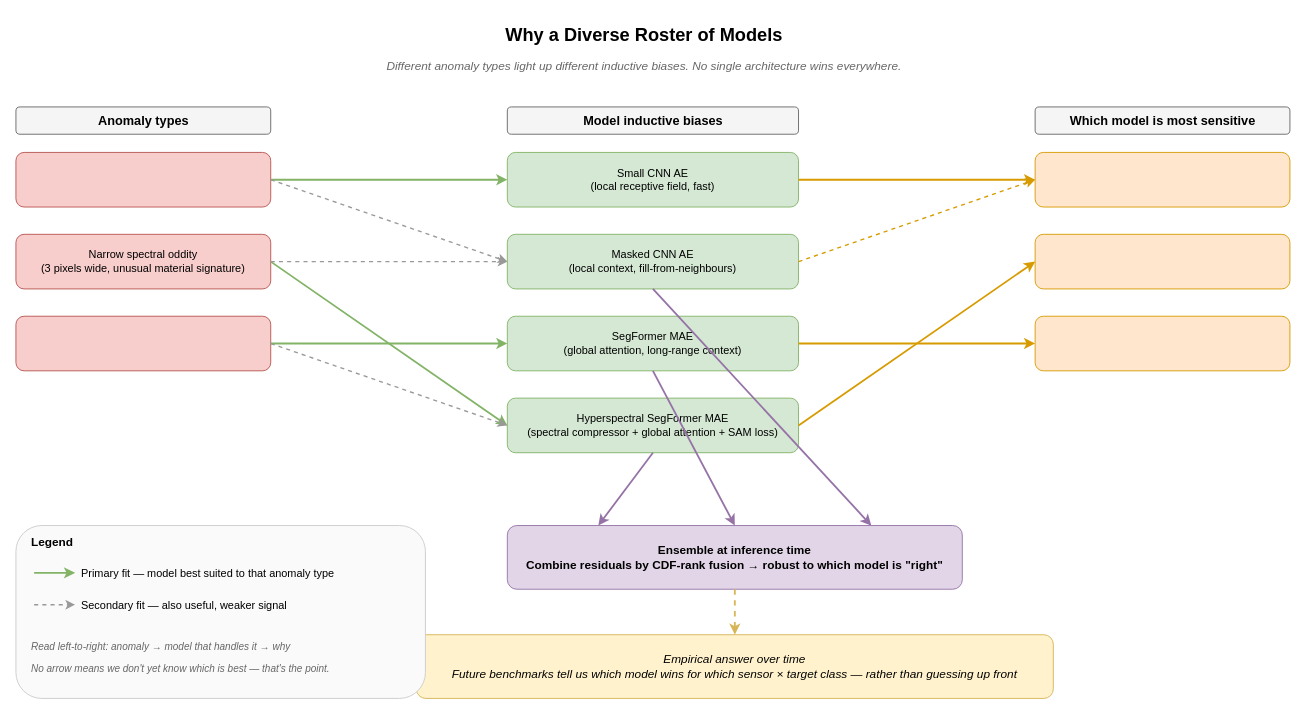
Image size: 1306x714. Some labels were removed from this diagram. Each missing label, with the centre of its shape:
"Context-dependent oddities → transformers see beyond the patch" belongs at point 1162,343.
"Large diffuse plume (spread over many pixels, low contrast)" belongs at point 143,343.
"Material identity → spectral-aware models, SAM loss" belongs at point 1162,261.
"Pixel-scale outliers → local CNNs catch sharp deviations" belongs at point 1162,179.
"Small thermal hotspot (single hot pixel, sharp)" belongs at point 143,179.
